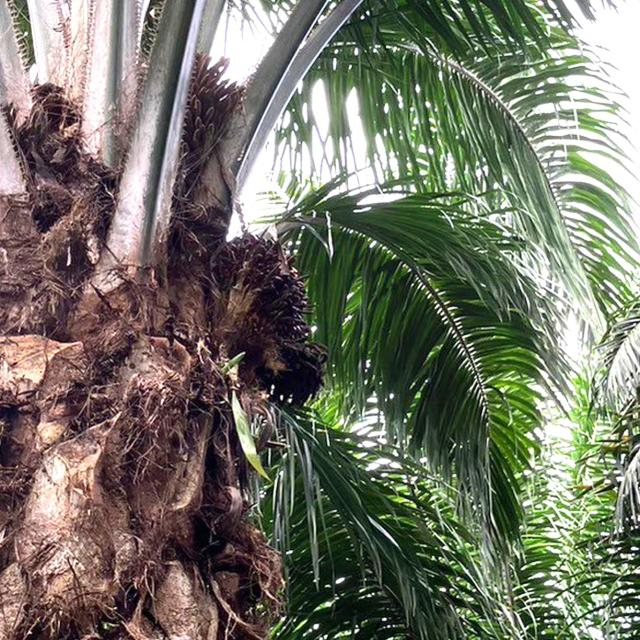almost: (212, 218, 331, 364)
